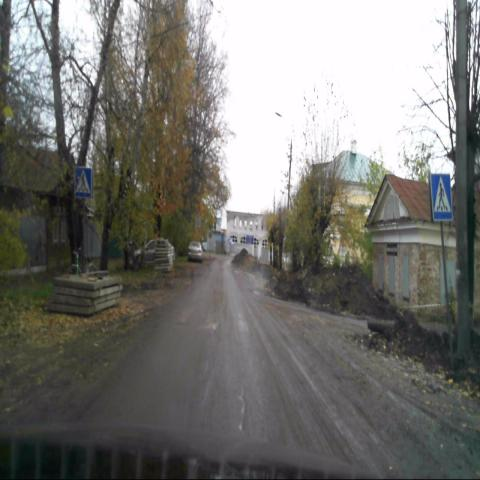5_19_1: (74, 167, 90, 197)
